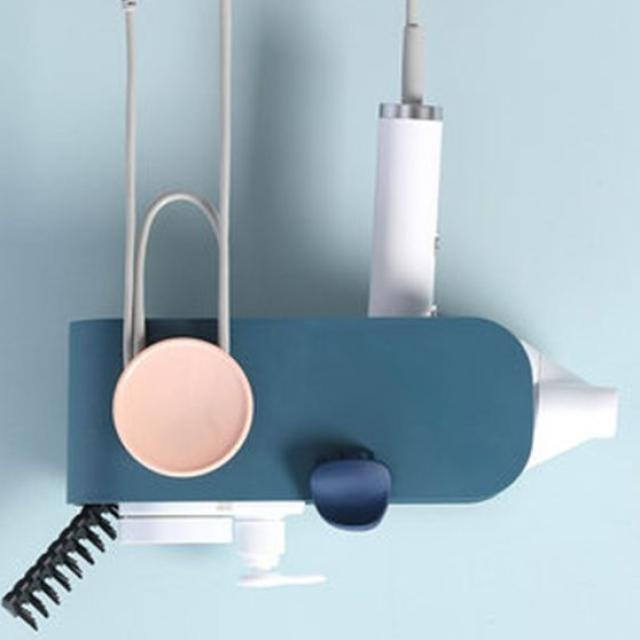dryer: (306, 0, 628, 540)
